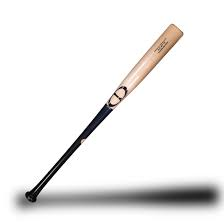baseball bat: (24, 21, 185, 203)
